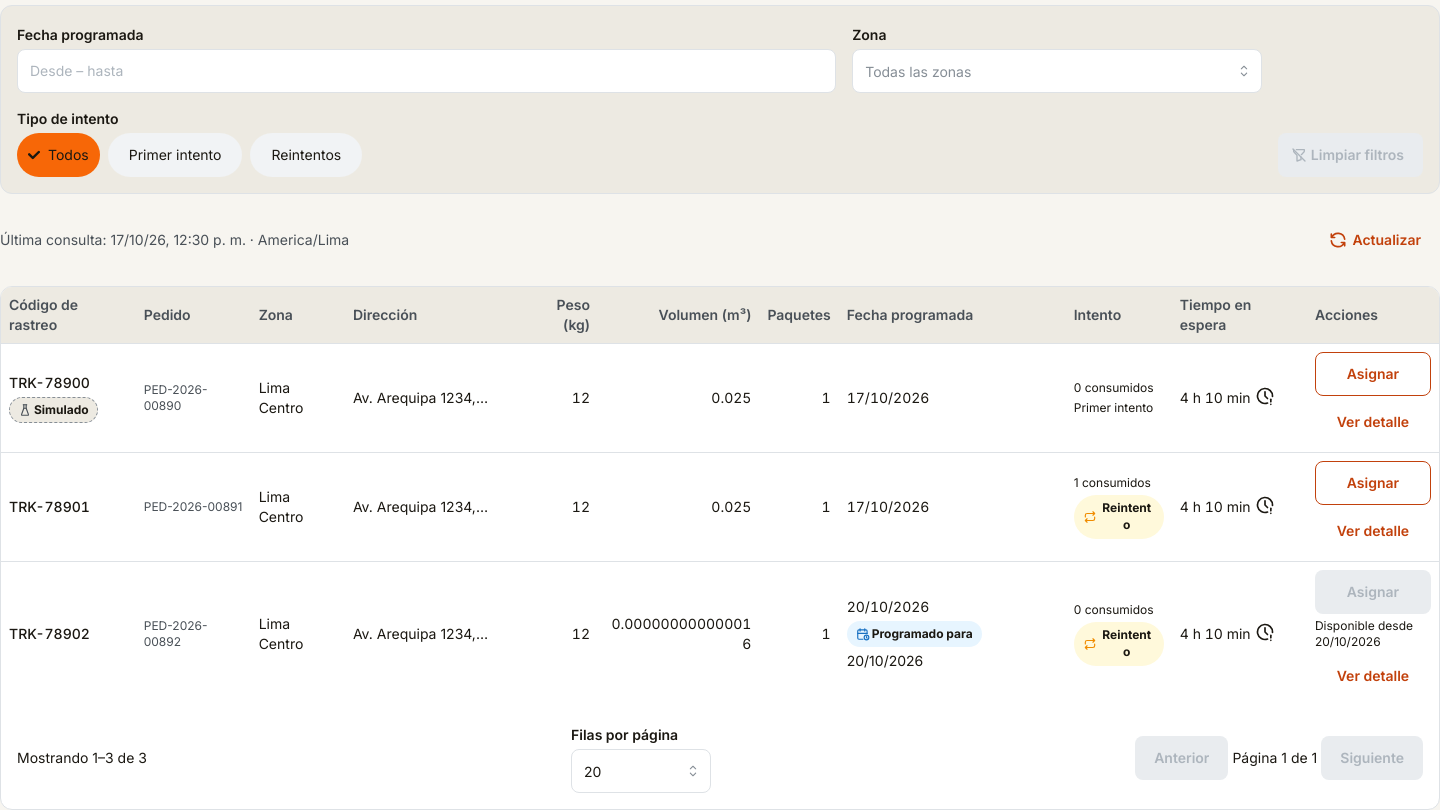
Test case: presenta cifras del servidor, reintentos con contador cero y el bloqueo de fecha futura
(page scrolled)
Expected: the text "TRK-78900" is shown, [9,374,90,391]
Expected: the 3rd button "Asignar" is disabled, [1315,570,1431,614]
Click the button "Ver detalle" below "Disponible desde" at (1373, 676), box [1315,654,1431,698]
(page scrolled)
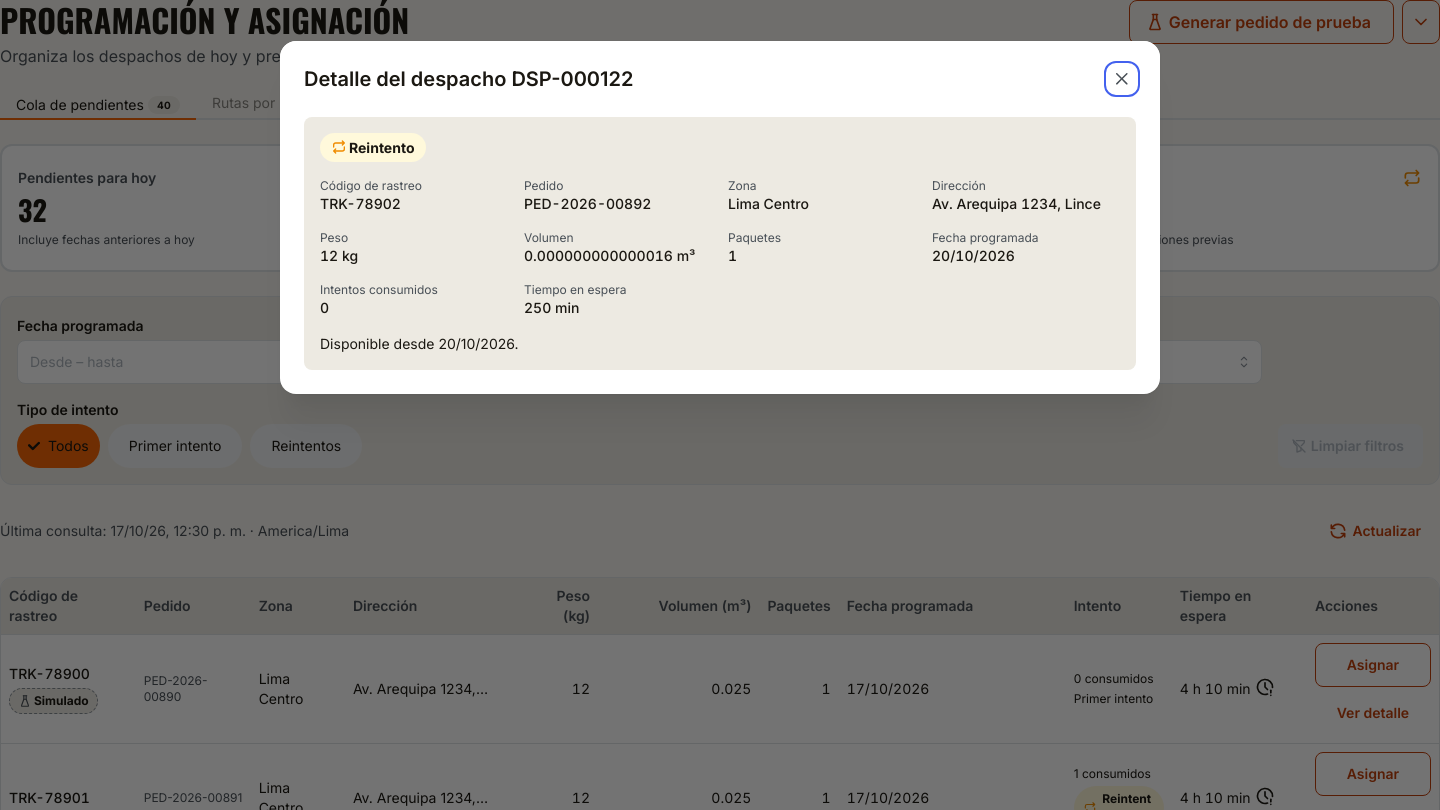
Expected: the tab "Rutas por repartidor" is disabled, [196,92,361,116]
Now the text "0.000000000000016 m³" is shown, box [524,246,712,266]
